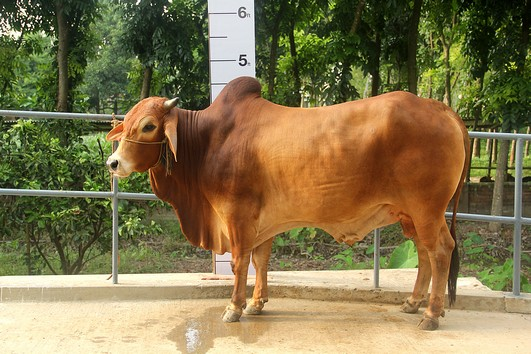cow: (103, 72, 477, 337)
